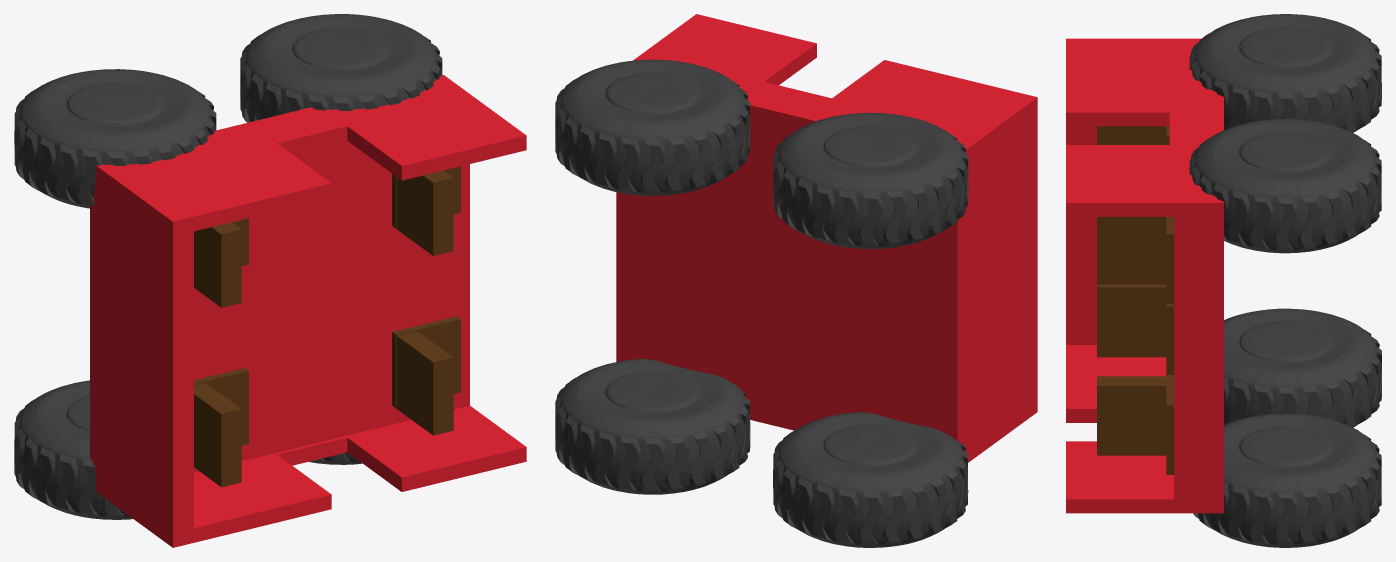
File: tinker.obj
The picture shows the model from 3 angles, left to right: view 1: azimuth 30°, elevation 25°; view 2: azimuth 150°, elevation 25°; view 3: azimuth 270°, elevation 25°; orthographic projection. The views are drawn at different scales.
Visible parts, largest first — view 1: obj_4, obj_10, obj_9, obj_0, obj_1, obj_3, obj_5, obj_8, obj_6, obj_7; view 2: obj_4, obj_9, obj_1, obj_0, obj_3, obj_2, obj_10; view 3: obj_10, obj_1, obj_2, obj_0, obj_3, obj_4, obj_5, obj_8, obj_6, obj_9, obj_7.
Part boxes in pixels (x1,y1,x2,y2): obj_4: (90,141,469,505); obj_10: (95,75,526,547); obj_9: (90,173,193,536); obj_0: (14,69,216,208); obj_1: (240,14,442,122); obj_3: (14,380,132,519); obj_5: (392,316,460,435); obj_8: (194,368,248,487); obj_6: (392,166,460,255); obj_7: (194,218,248,307); obj_4: (616,119,974,442); obj_9: (937,104,1037,452); obj_1: (555,59,750,195); obj_0: (773,112,968,248); obj_3: (773,412,968,547); obj_2: (555,358,750,494); obj_10: (633,14,1037,462); obj_10: (1066,38,1223,513); obj_1: (1189,119,1381,253); obj_2: (1193,413,1381,547); obj_0: (1189,14,1381,132); obj_3: (1224,308,1381,427); obj_4: (1174,217,1223,513); obj_5: (1097,375,1173,474); obj_8: (1097,284,1173,374); obj_6: (1097,217,1173,303); obj_9: (1066,126,1096,344); obj_7: (1097,126,1169,144).
Bounding box in the file's own units: 114 × 106 × 82.04.
